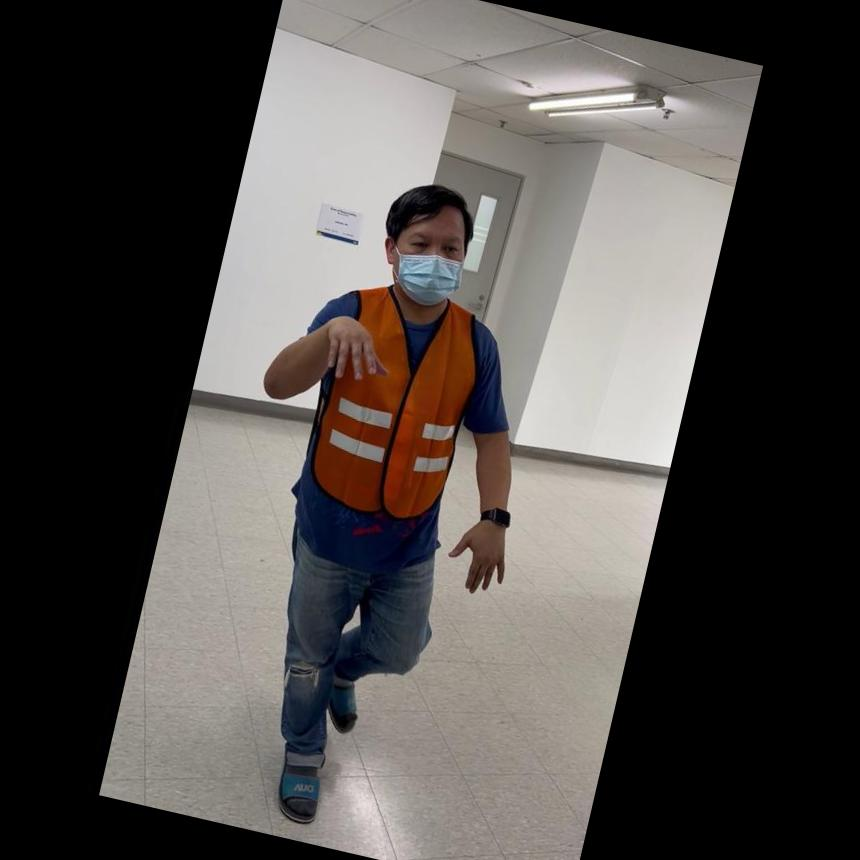No-gloves: (309, 301, 398, 389), (441, 503, 519, 600)
